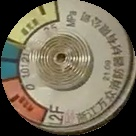green: (1, 40, 25, 80)
needle: (6, 40, 37, 52)
red: (2, 79, 50, 126)
yellow: (7, 2, 60, 46)
